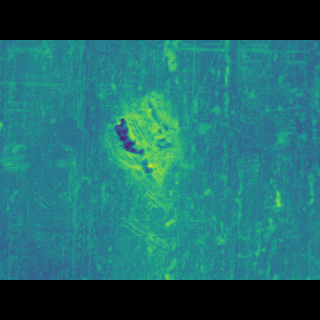Loch: (106, 110, 187, 183), (141, 183, 216, 209), (126, 201, 167, 231)
